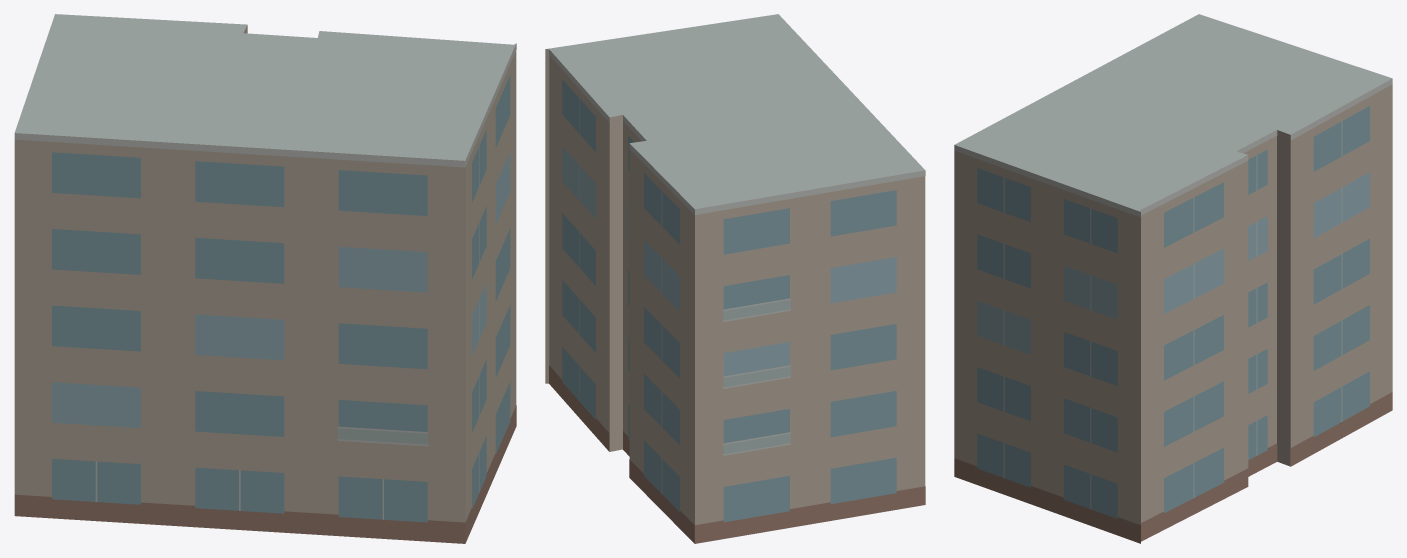
Rendered from survey-upis-32612072.glb.
3 renders of one model, left to right at view 1: azimuth 30°, elevation 25°; view 2: azimuth 150°, elevation 25°; view 3: azimuth 270°, elevation 25°, orthographic. The views are drawn at different scales.
Parts seen in each view (by area): view 1: survey-upis-32612072.tmp; view 2: survey-upis-32612072.tmp; view 3: survey-upis-32612072.tmp.
Boxes of the visible parts, bbox=[...] form: survey-upis-32612072.tmp: bbox=[14, 14, 516, 543]; survey-upis-32612072.tmp: bbox=[545, 14, 925, 543]; survey-upis-32612072.tmp: bbox=[954, 14, 1392, 543].
Size of the model in its own units: 18.18 by 14.2 by 17.01.
